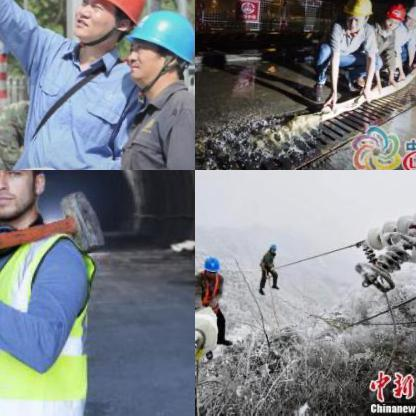Helmet: (121, 1, 194, 91), (66, 0, 146, 49), (0, 170, 56, 227), (345, 0, 372, 35), (386, 1, 404, 26), (200, 252, 218, 275), (405, 2, 415, 28), (266, 240, 278, 254)
